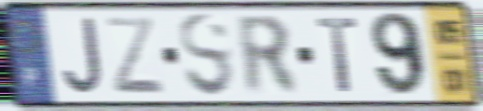9: (370, 9, 431, 101)
J: (59, 15, 106, 97)
R: (233, 12, 303, 99)
S: (176, 10, 237, 101)
T: (313, 15, 361, 96)
Z: (102, 15, 168, 97)
